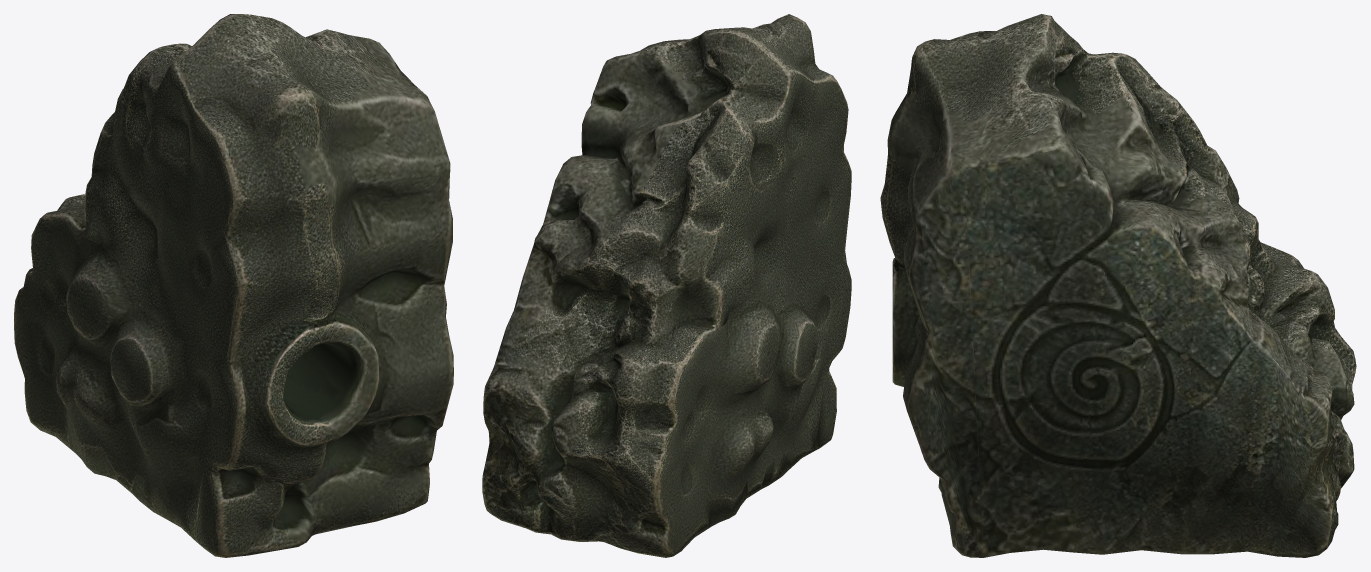
The model's file is stone-sculpture.glb.
3 renders of one model, left to right at view 1: azimuth 30°, elevation 25°; view 2: azimuth 150°, elevation 25°; view 3: azimuth 270°, elevation 25°, orthographic. The views are drawn at different scales.
Parts seen in each view (by area): view 1: tripo_node_84617b01-470b-415e-b960-ed65557116de; view 2: tripo_node_84617b01-470b-415e-b960-ed65557116de; view 3: tripo_node_84617b01-470b-415e-b960-ed65557116de.
Boxes of the visible parts, left/top/right/bottom form: tripo_node_84617b01-470b-415e-b960-ed65557116de: left=14, top=14, right=453, bottom=557; tripo_node_84617b01-470b-415e-b960-ed65557116de: left=482, top=14, right=851, bottom=557; tripo_node_84617b01-470b-415e-b960-ed65557116de: left=880, top=14, right=1356, bottom=557.
Bounding box in the file's own units: 0.5215 × 0.998 × 0.9121.
Materials: 1 (1 with a texture image).
